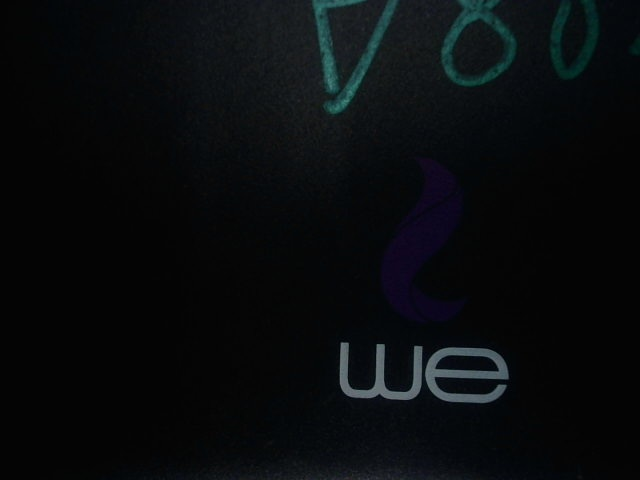AT_We: (302, 142, 517, 412)
